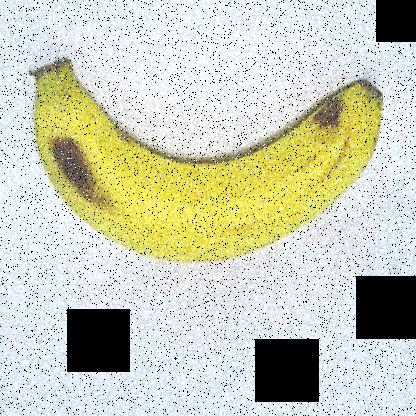freshripe: (18, 40, 396, 278)
